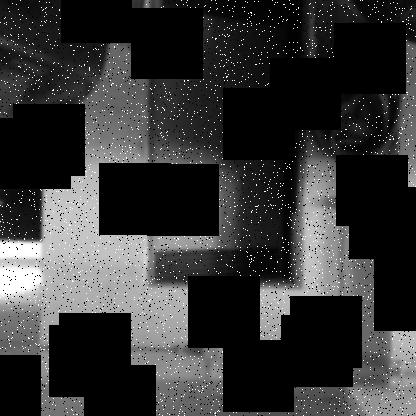Porte: (143, 0, 310, 291)
